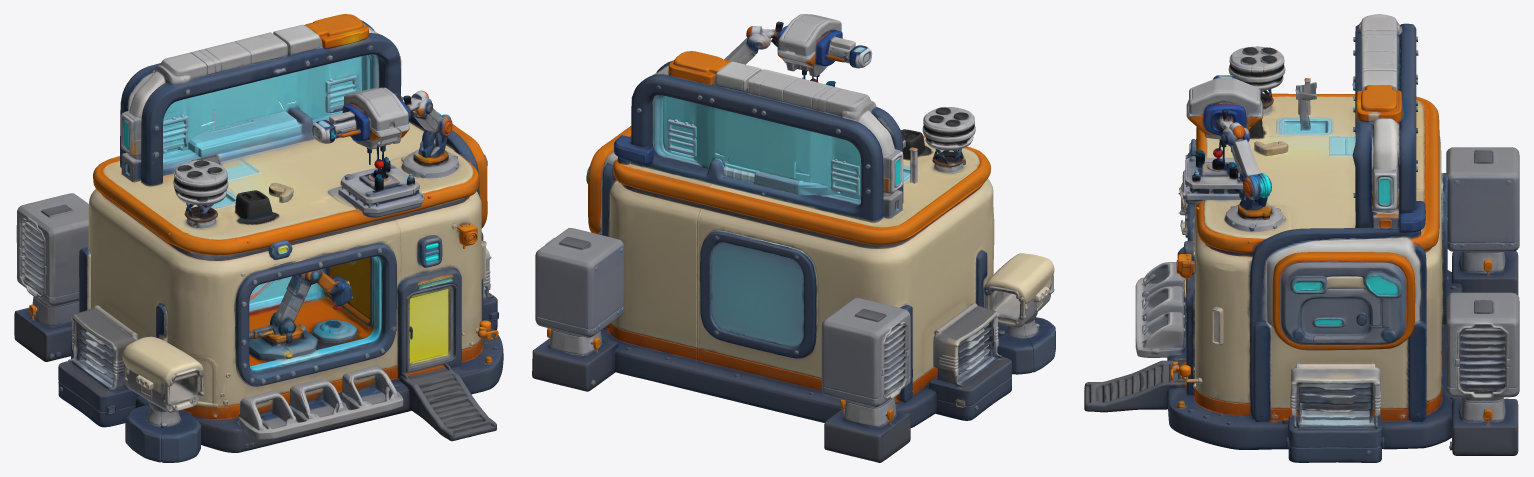
The model's file is drone_works.glb.
The picture shows the model from 3 angles, left to right: view 1: azimuth 30°, elevation 25°; view 2: azimuth 150°, elevation 25°; view 3: azimuth 270°, elevation 25°; orthographic projection. The views are drawn at different scales.
Visible parts, largest first — view 1: FC_housing, FC_arm; view 2: FC_housing, FC_arm; view 3: FC_housing, FC_arm.
Part boxes in pixels (<box>): FC_housing: <box>14,14,503,462</box>; FC_arm: <box>381,88,452,193</box>; FC_housing: <box>532,14,1055,462</box>; FC_arm: <box>724,15,803,78</box>; FC_housing: <box>1084,14,1519,462</box>; FC_arm: <box>1185,92,1272,216</box>.
Size of the model in its own units: 0.9781 by 0.7101 by 0.9065.
Materials: 1 (1 with a texture image).
